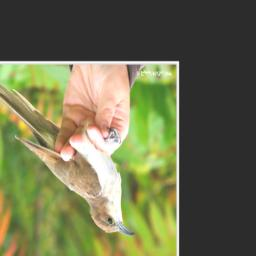Cuckoo: (0, 78, 135, 240)
